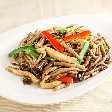chashugu: (8, 23, 110, 88)
